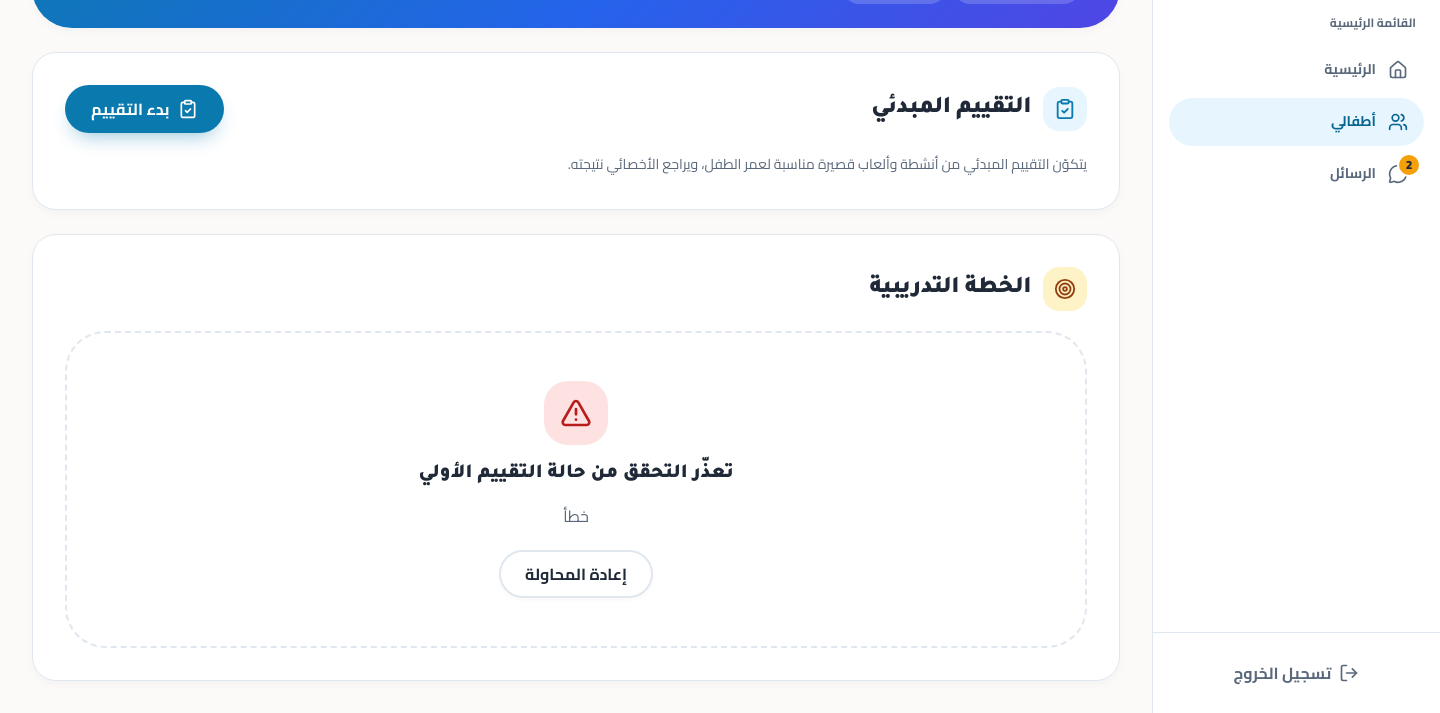
Scenario: ChildProfilePage — the plan waits for the initial assessment (client revision 2026-10) › shows an error with retry when the assessment state cannot be read
(page scrolled)
Expected: the text "تعذّر التحقق من حالة التقييم الأولي" is shown, [418,464,734,484]
What coordinates should you click on to do the following:
click the button "إعادة المحاولة"
I would click on:
 (576, 574)
Its box is [499,550,653,598].
(page scrolled)
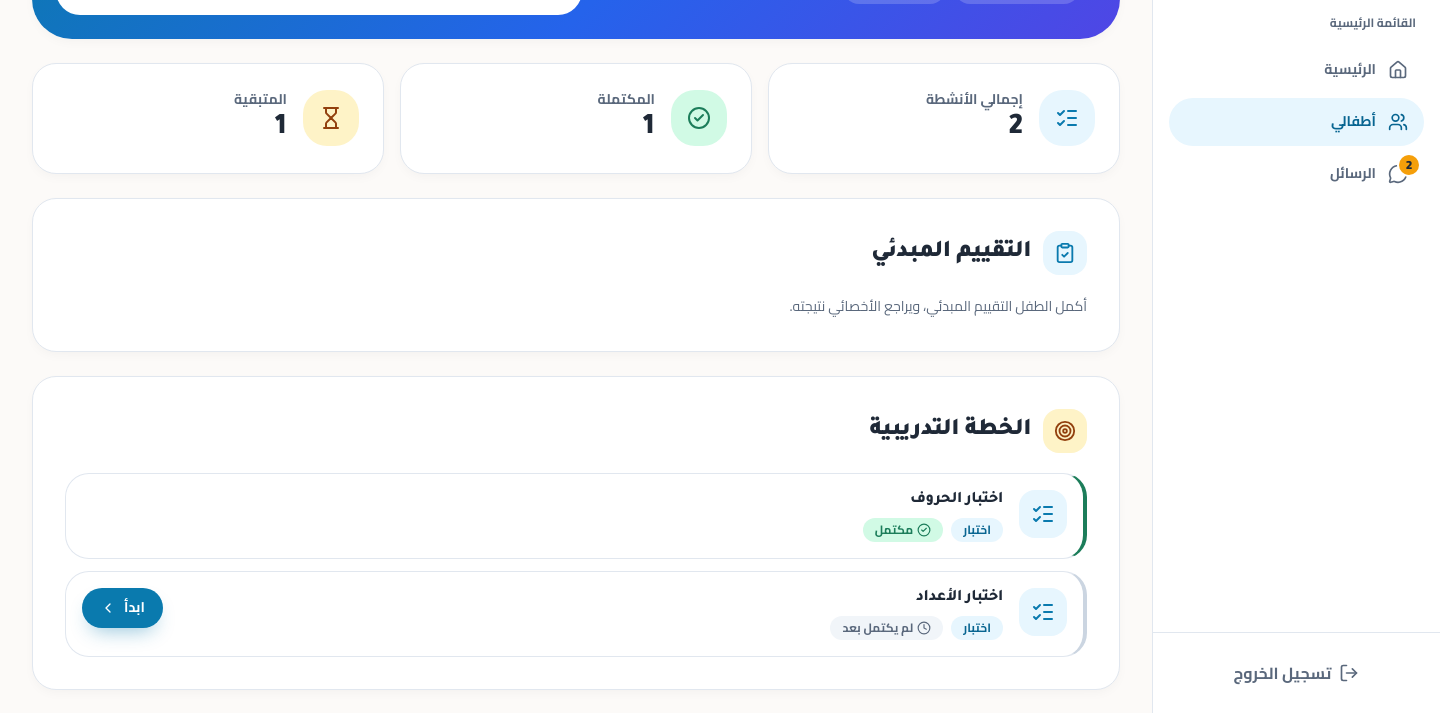
Now the list named "أنشطة الخطة التدريبية" is shown, box [65,473,1087,658]
